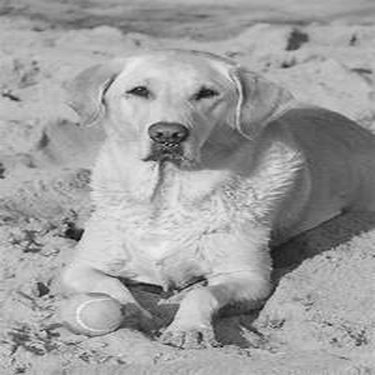dog: (37, 42, 372, 355)
